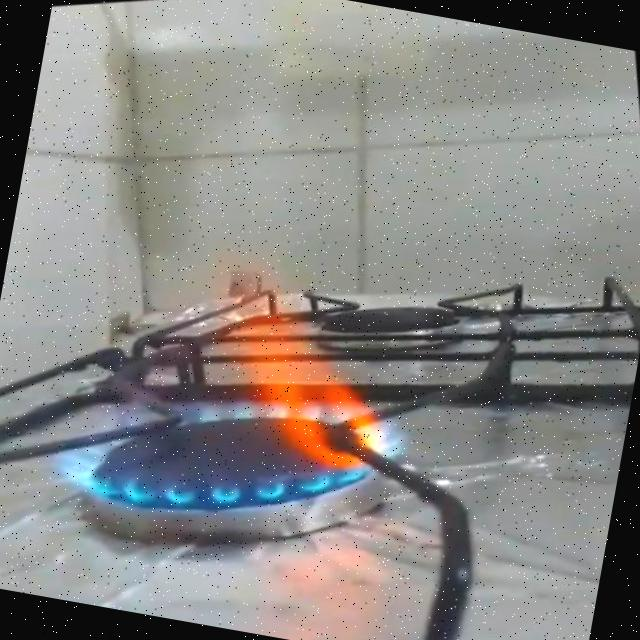fire: (0, 153, 463, 584)
